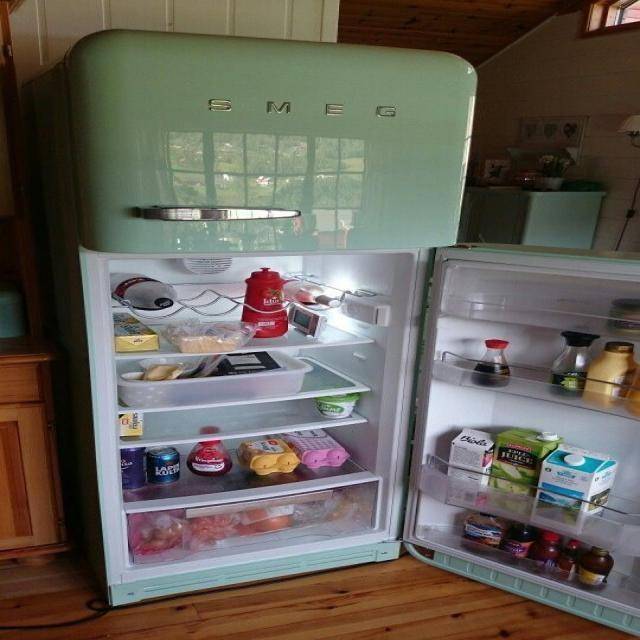obstacle: (17, 28, 638, 636)
